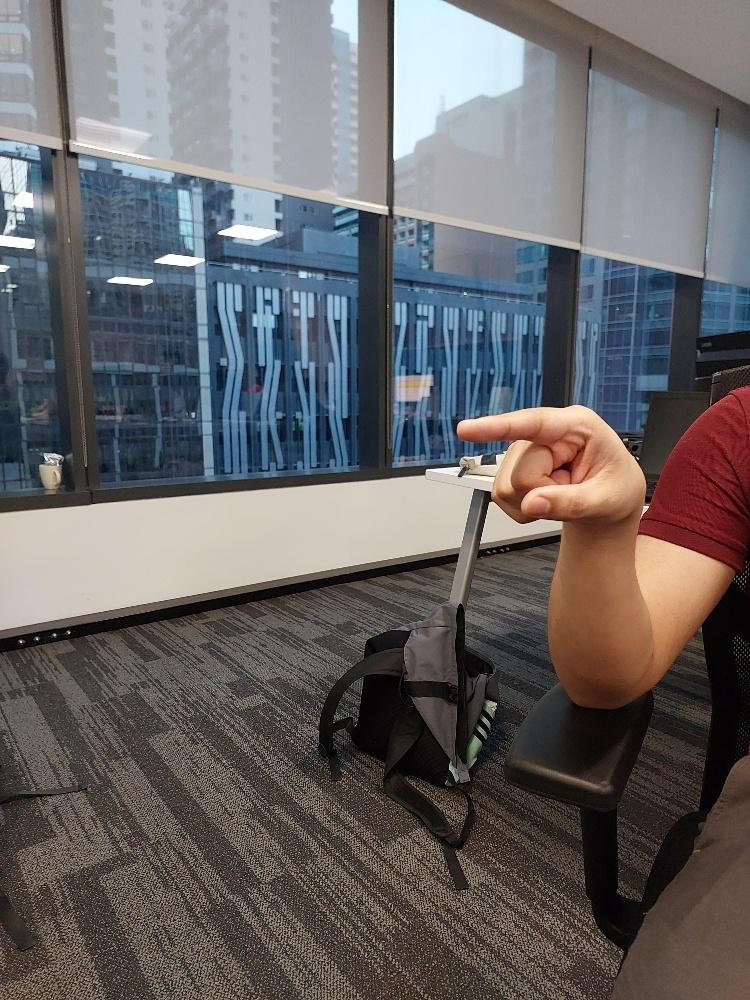z: (454, 399, 649, 526)
